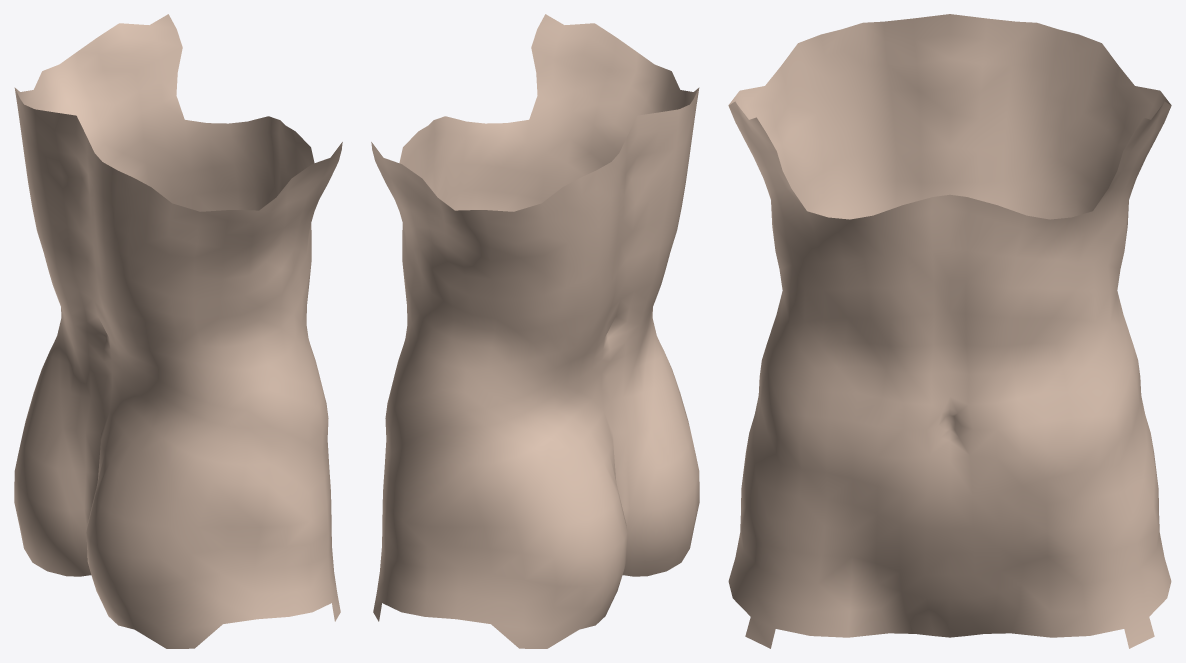
The model's file is human_pelvis.dae.
The picture shows the model from 3 angles, left to right: view 1: azimuth 30°, elevation 25°; view 2: azimuth 150°, elevation 25°; view 3: azimuth 270°, elevation 25°; orthographic projection. The views are drawn at different scales.
Parts seen in each view (by area): view 1: frank_skeleton-base; view 2: frank_skeleton-base; view 3: frank_skeleton-base.
Part boxes in pixels (left/top/right/bottom): frank_skeleton-base: left=14, top=14, right=342, bottom=648; frank_skeleton-base: left=371, top=14, right=699, bottom=648; frank_skeleton-base: left=728, top=14, right=1171, bottom=648.
Size of the model in its own units: 0.2306 by 0.3521 by 0.4732.
